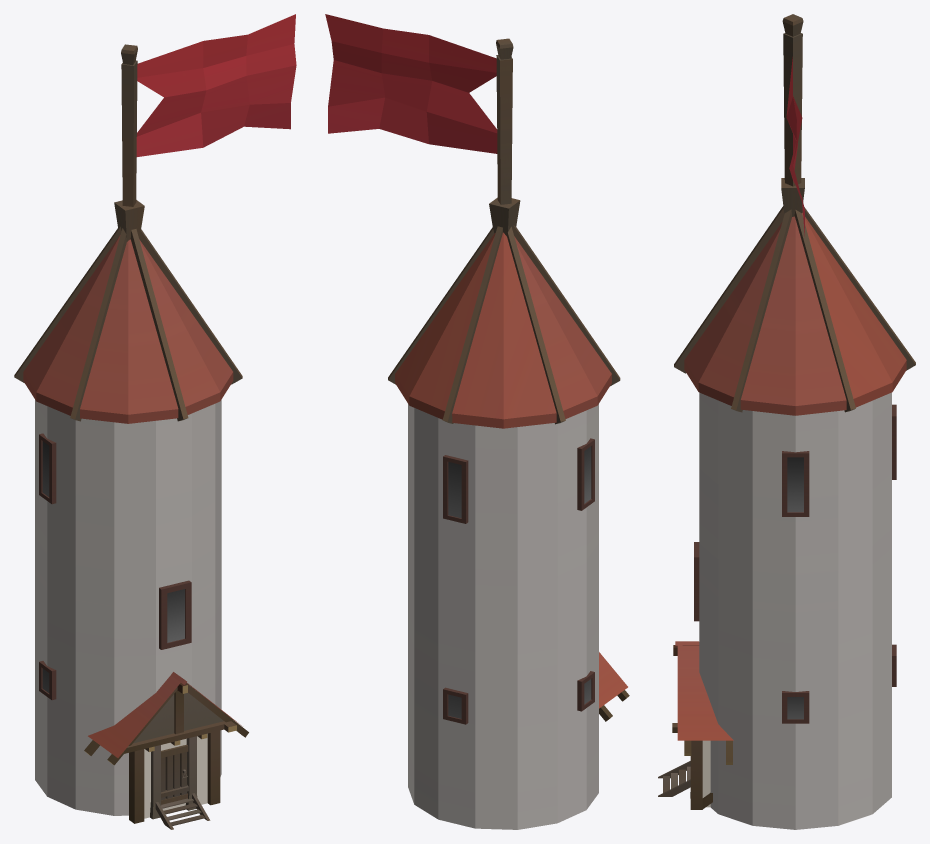
The model's file is Towers_LOD1.fbx.
3 views of the same model, side by side, from view 1: azimuth 30°, elevation 25°; view 2: azimuth 150°, elevation 25°; view 3: azimuth 270°, elevation 25° (orthographic). The views are drawn at different scales.
Parts seen in each view (by area): view 1: polySurface9781; view 2: polySurface9781; view 3: polySurface9781.
Boxes of the visible parts, bbox=[...] form: polySurface9781: bbox=[14, 14, 296, 829]; polySurface9781: bbox=[325, 14, 629, 829]; polySurface9781: bbox=[658, 14, 915, 829].
Size of the model in its own units: 519 by 1376 by 418.
